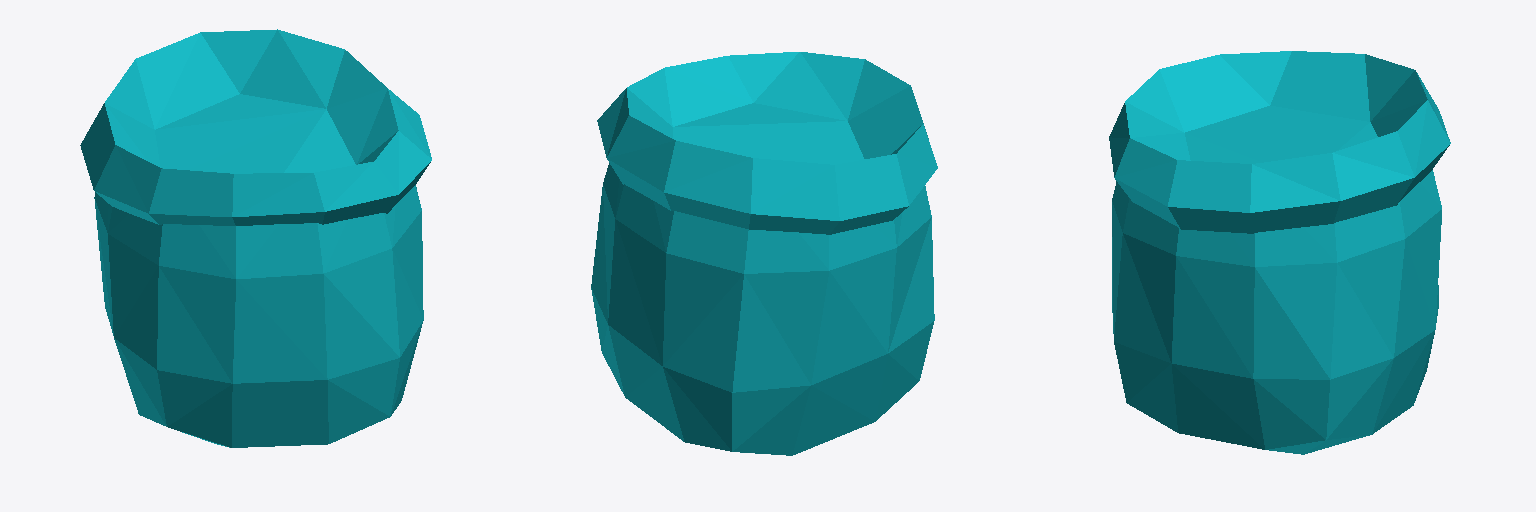
File: bag_003.obj
3 renders of one model, left to right at view 1: azimuth 30°, elevation 25°; view 2: azimuth 150°, elevation 25°; view 3: azimuth 270°, elevation 25°, orthographic.
Visible parts, largest first — view 1: bag_003; view 2: bag_003; view 3: bag_003.
Part boxes in pixels (left/top/right/bottom): bag_003: left=80, top=29, right=431, bottom=447; bag_003: left=591, top=52, right=937, bottom=455; bag_003: left=1109, top=51, right=1450, bottom=454.
Bounding box in the file's own units: 0.5495 × 0.5712 × 0.5361.